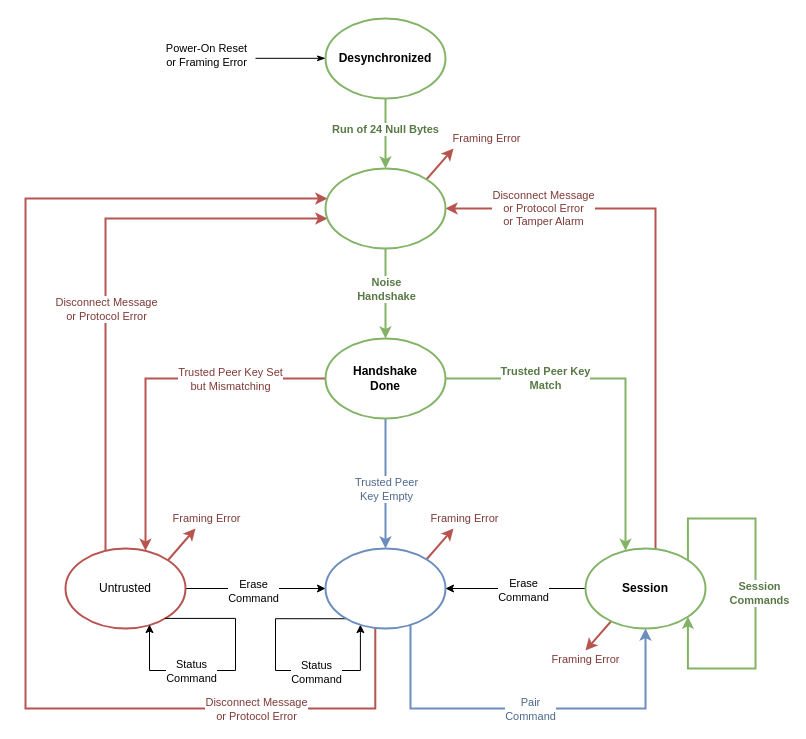
Image size: 806x739. Some labels were removed from this diagram. Each missing label, with the box of its shape:
Synchronized: (324, 167, 446, 249)
Unpaired: (324, 547, 446, 629)
